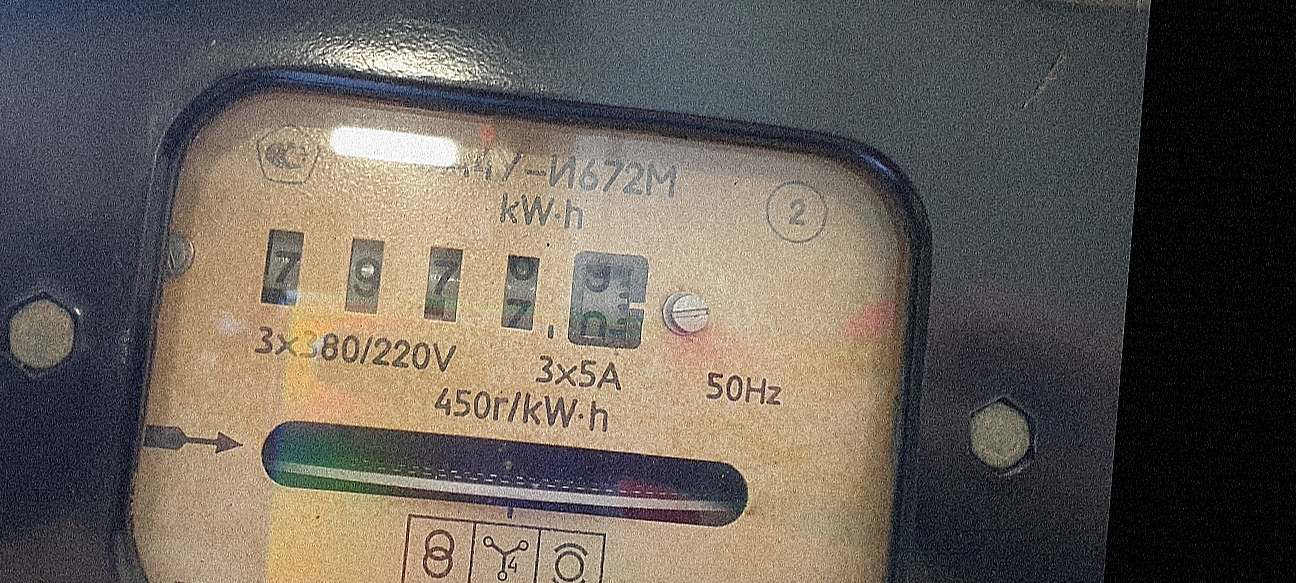0: (575, 304, 611, 345)
7: (427, 256, 461, 300), (269, 246, 302, 291), (501, 295, 534, 332)
9: (347, 253, 385, 301), (581, 257, 615, 295)
screen: (238, 204, 675, 374)
